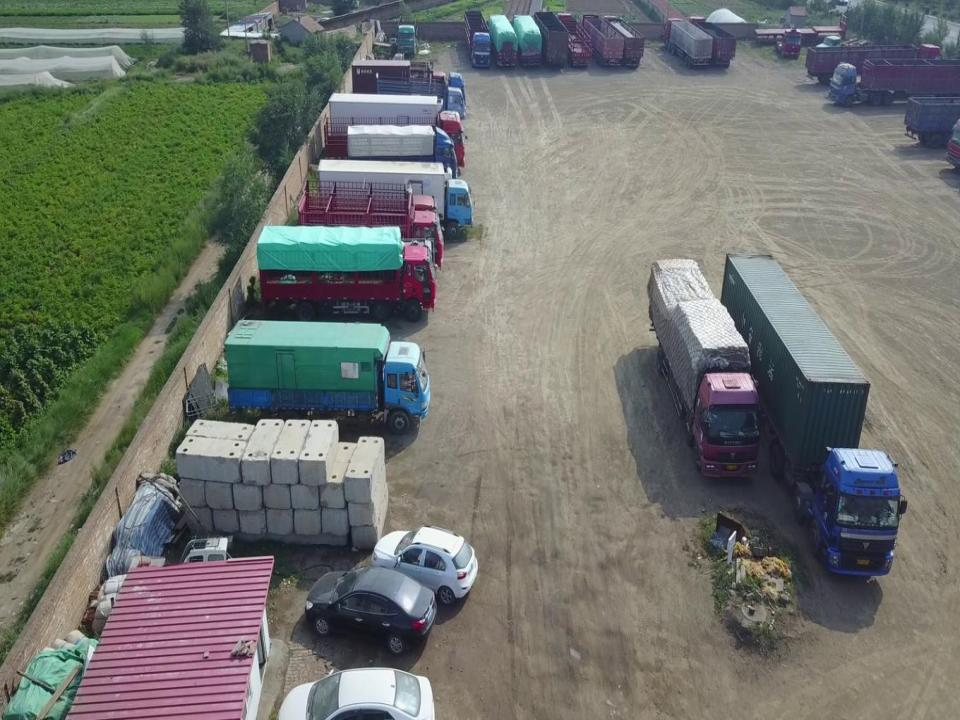car: (303, 562, 435, 651), (272, 667, 442, 720), (373, 524, 477, 604)
truck: (714, 254, 902, 583), (643, 257, 762, 481), (222, 319, 432, 432), (256, 225, 439, 319), (317, 158, 474, 238), (327, 90, 466, 170), (298, 210, 442, 266), (302, 185, 438, 237), (324, 130, 458, 182), (805, 39, 946, 83), (828, 58, 960, 105), (345, 69, 448, 109), (376, 78, 466, 122), (373, 72, 466, 104), (687, 16, 737, 71), (662, 16, 712, 69), (577, 14, 624, 68), (599, 15, 643, 70), (554, 12, 591, 72), (533, 11, 567, 69), (510, 13, 542, 70), (463, 9, 492, 70), (486, 14, 516, 69), (818, 32, 870, 61), (772, 22, 802, 58), (395, 15, 420, 56)
